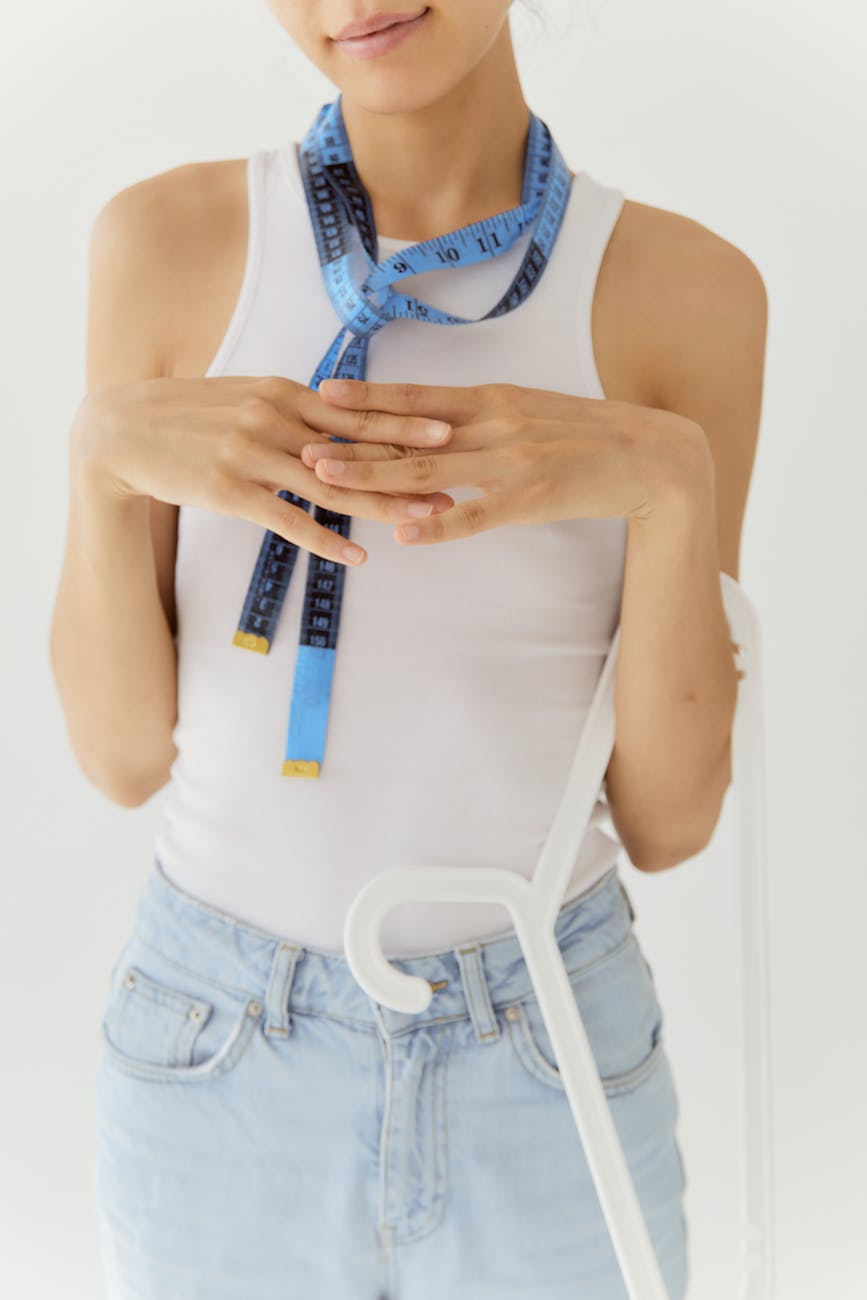shorts: (60, 889, 715, 1300)
sleeveless_top: (83, 173, 726, 935)
